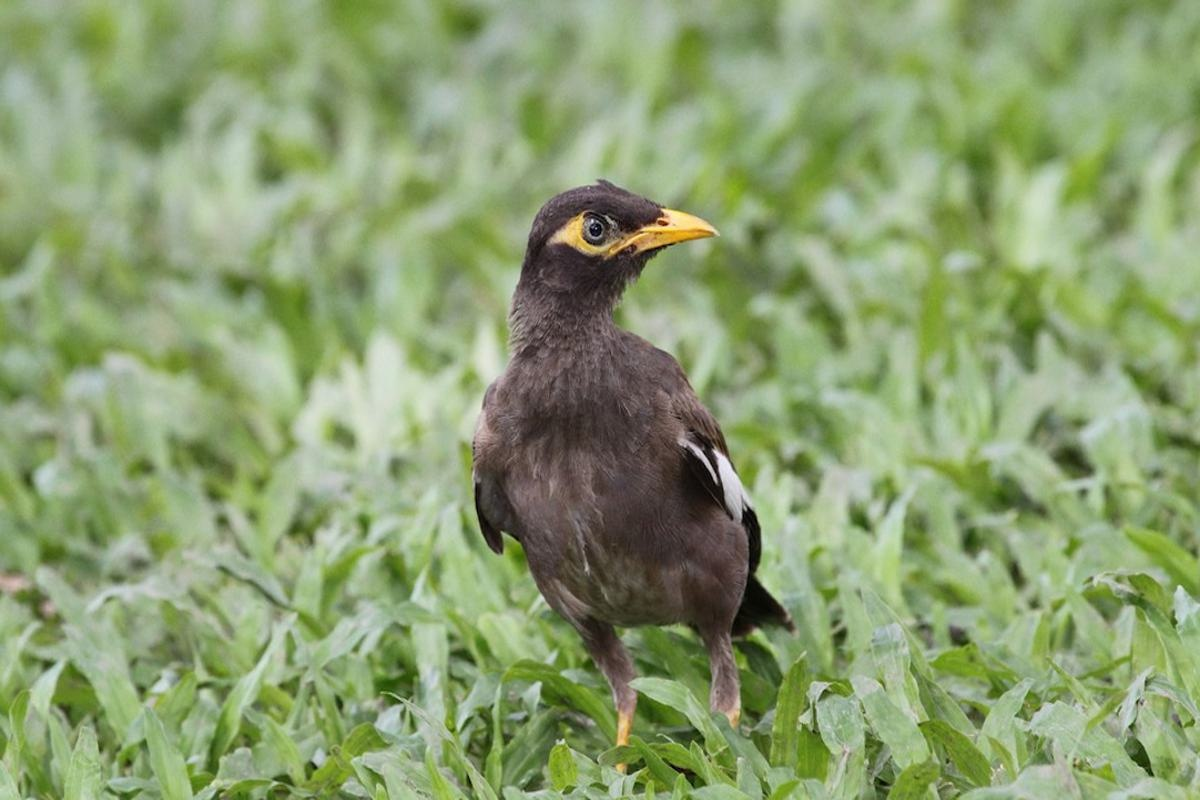myna: (480, 146, 819, 700)
